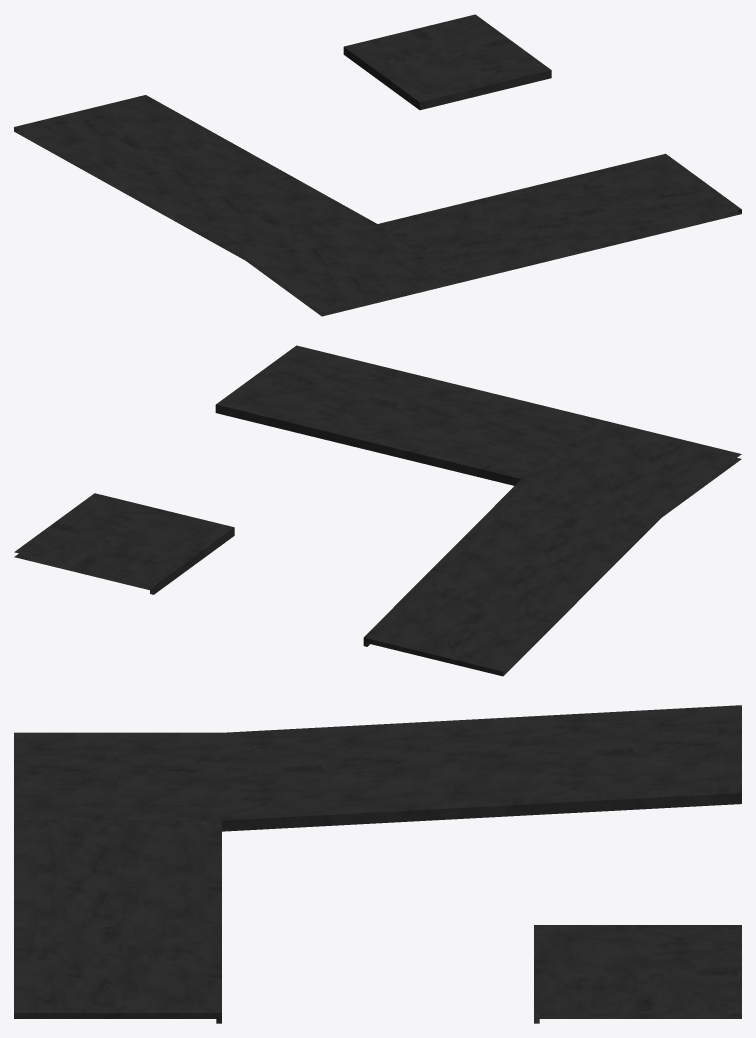
Rendered from mesh_FloorPlane23F_corner.fbx.
3 renders of one model, top to bottom at view 1: azimuth 30°, elevation 25°; view 2: azimuth 150°, elevation 25°; view 3: azimuth 270°, elevation 25°, orthographic. The views are drawn at different scales.
Visible parts, largest first — view 1: FloorPlane23F_corner; view 2: FloorPlane23F_corner; view 3: FloorPlane23F_corner.
Boxes of the visible parts, bbox=[...] form: FloorPlane23F_corner: bbox=[14, 14, 741, 316]; FloorPlane23F_corner: bbox=[14, 345, 741, 676]; FloorPlane23F_corner: bbox=[14, 705, 741, 1023].
Bounding box in the file's own units: 2100 × 35 × 2100.
